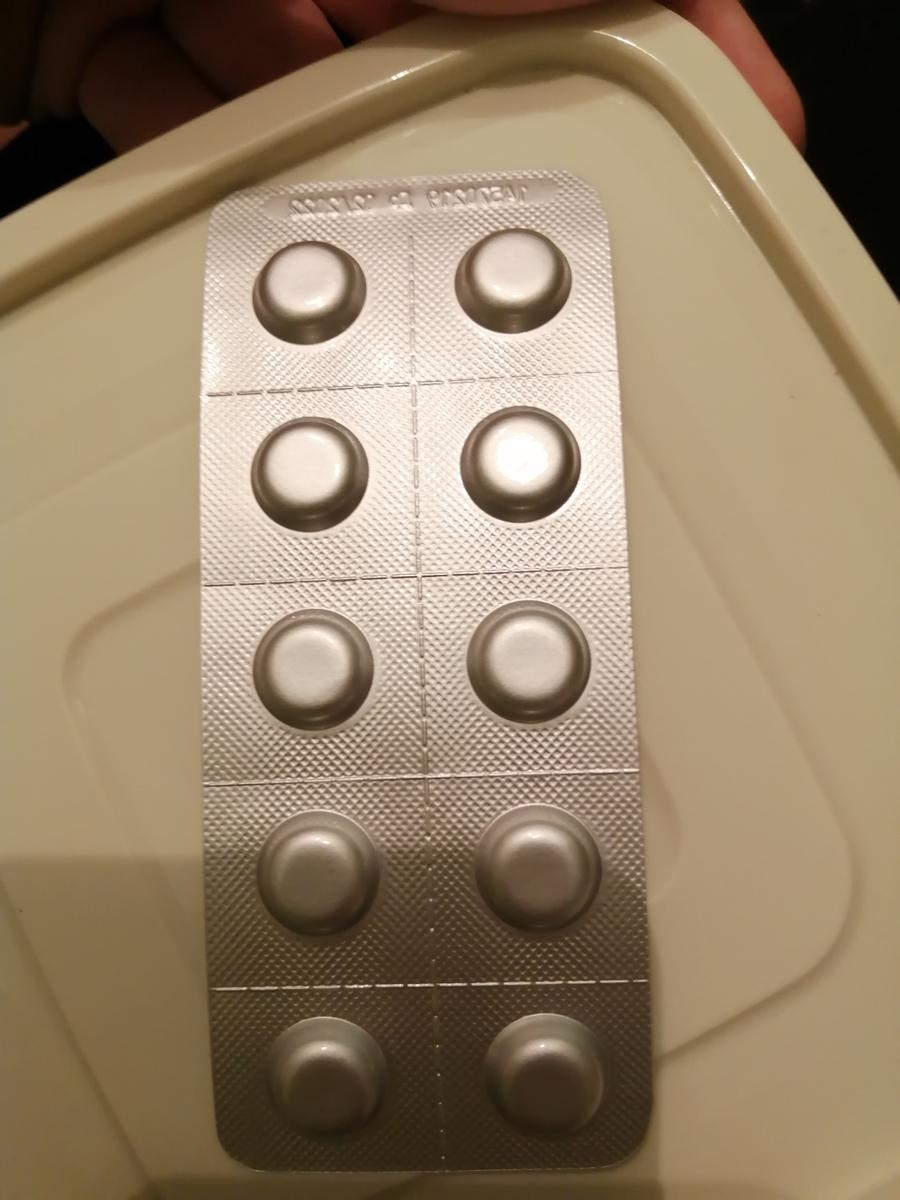tablet: (255, 611, 370, 725), (462, 404, 579, 511), (481, 821, 593, 928), (255, 416, 360, 521), (265, 825, 367, 931), (456, 228, 567, 325), (479, 609, 579, 713), (281, 1038, 374, 1142), (496, 1037, 596, 1133), (256, 238, 356, 331)
